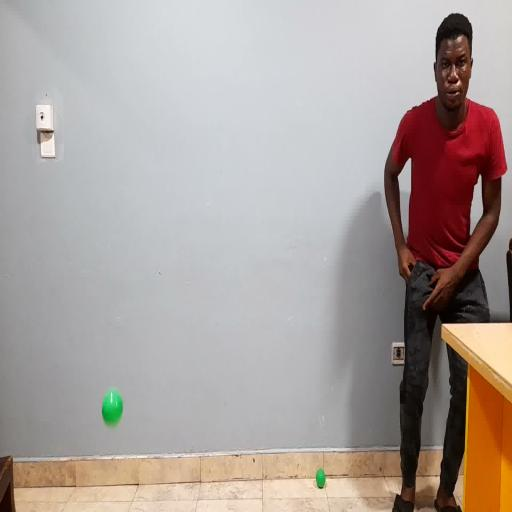plastic-ball: (102, 389, 123, 426)
